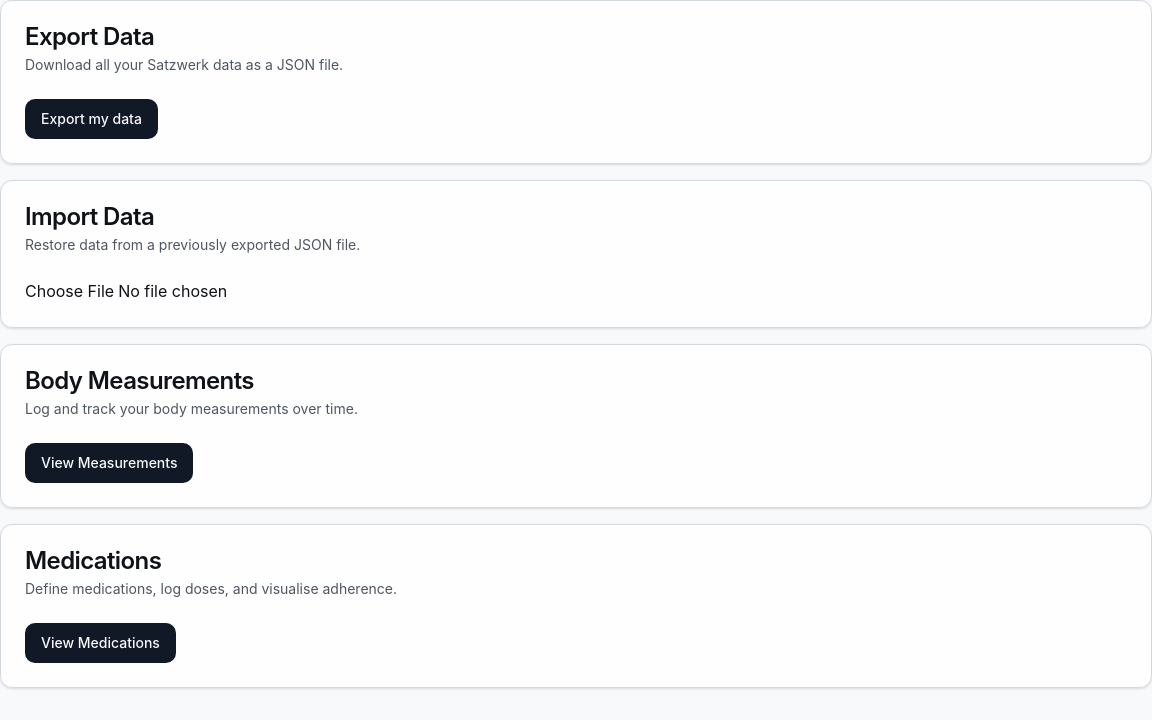
Test: ProfilePage › shows error message when export fails
Click the button "Export my data" at x=91, y=119, box [25,99,158,139]
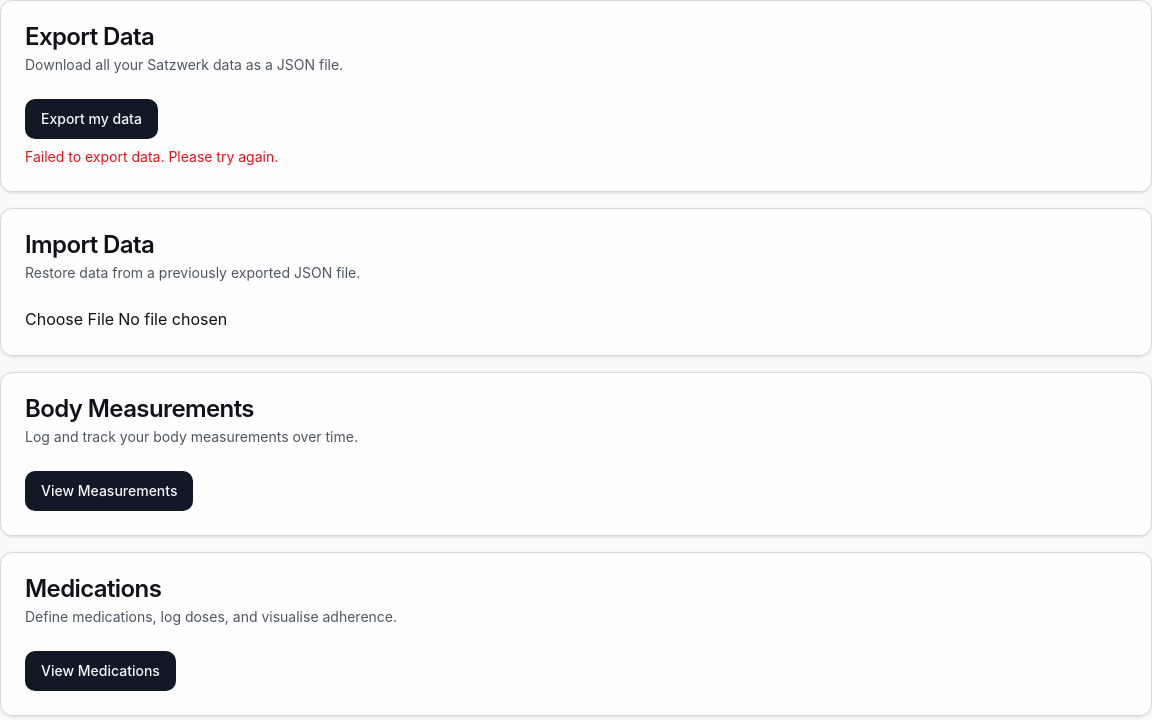
Expected: the text "Failed to export data. Please try again." is shown, [25,148,278,165]
